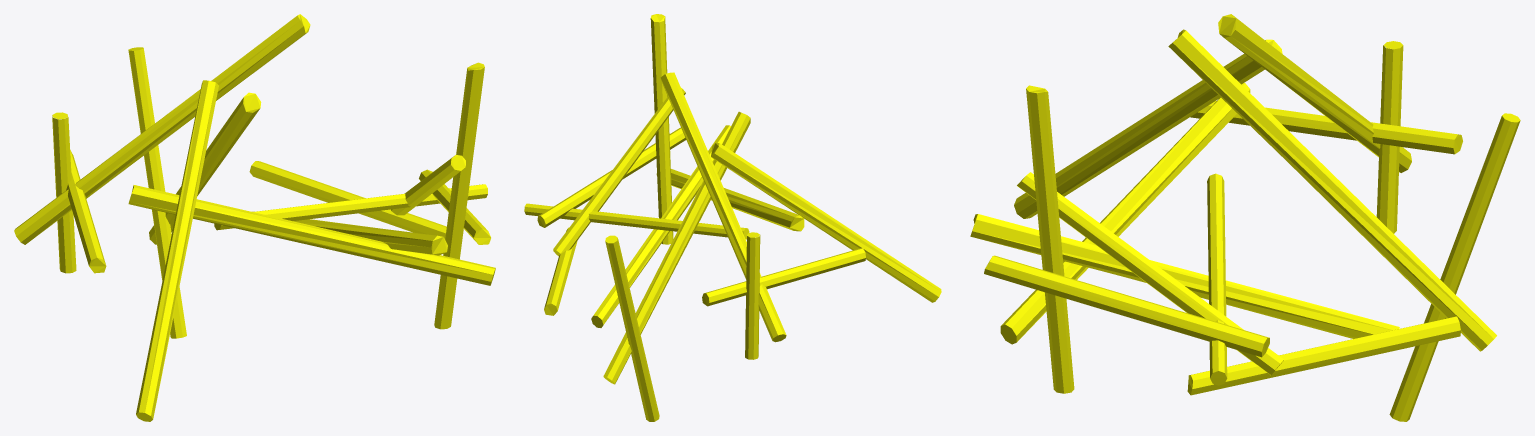
Rendered from camp_woodhut_break00.glb.
3 views of the same model, side by side, from view 1: azimuth 30°, elevation 25°; view 2: azimuth 150°, elevation 25°; view 3: azimuth 270°, elevation 25° (orthographic). The views are drawn at different scales.
Visible parts, largest first — view 1: camp_woodhut_break00; view 2: camp_woodhut_break00; view 3: camp_woodhut_break00.
Boxes of the visible parts, left/top/right/bottom form: camp_woodhut_break00: left=14, top=14, right=495, bottom=421; camp_woodhut_break00: left=524, top=14, right=941, bottom=421; camp_woodhut_break00: left=970, top=14, right=1520, bottom=421.
Size of the model in its own units: 8.53 by 6.91 by 7.94.
1 material, 1 textured.
